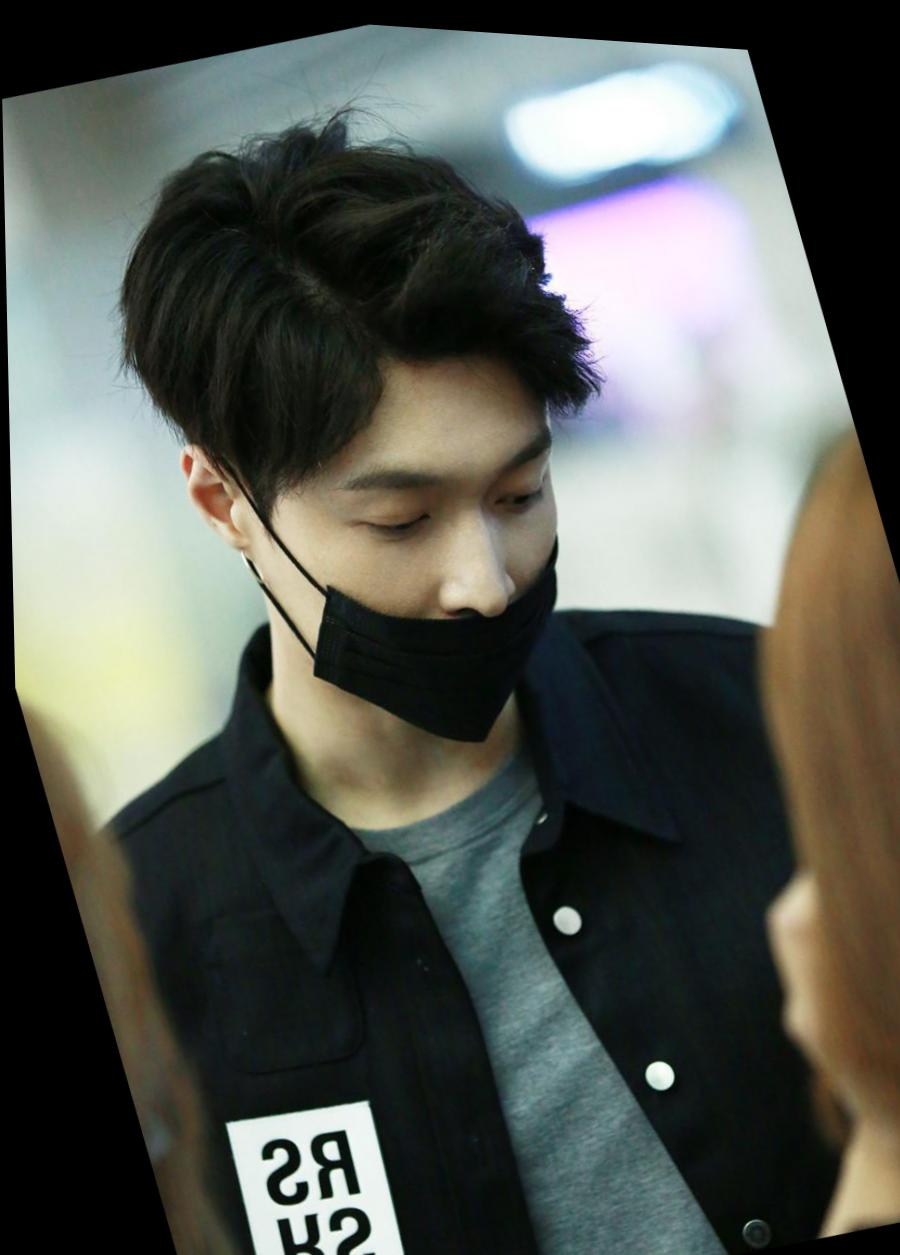WRONG: (250, 385, 627, 775)
